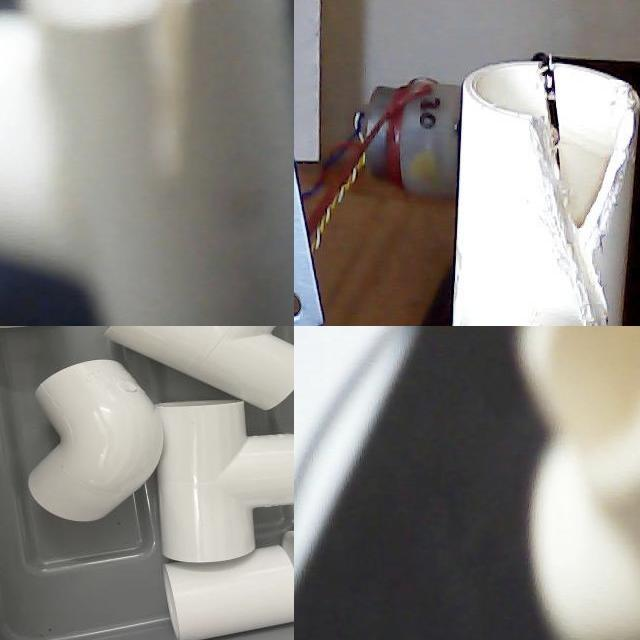Defective: (488, 52, 640, 326), (135, 0, 233, 175), (557, 110, 635, 326), (525, 123, 558, 236), (541, 70, 559, 145), (576, 308, 616, 326)
L Joint: (26, 358, 168, 527)
T Joint: (0, 0, 294, 326), (104, 326, 294, 411)
